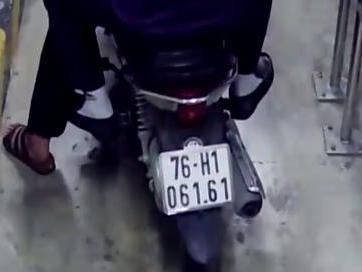num_plate: (156, 142, 233, 214)
